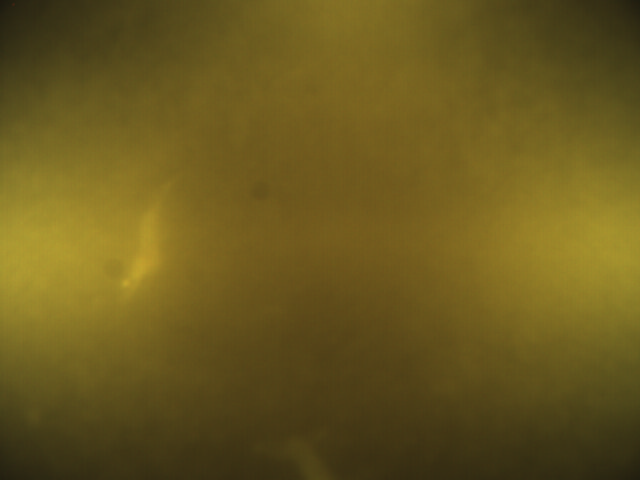shrimp: (114, 178, 178, 296)
